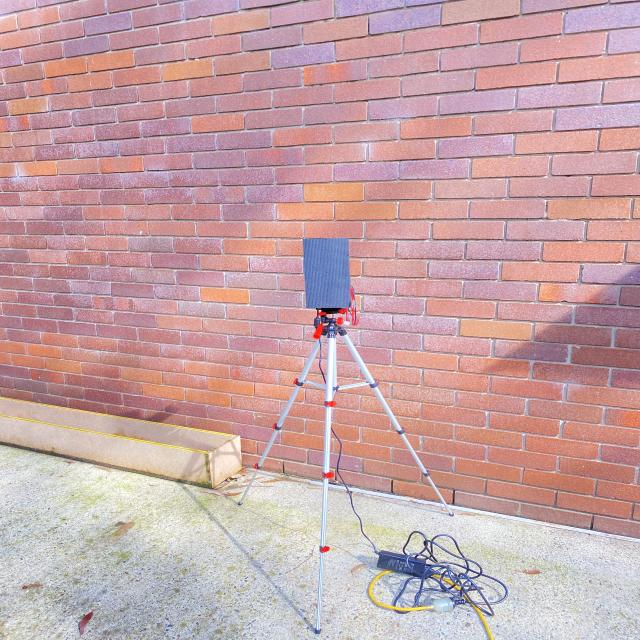matrix: (299, 237, 354, 310)
